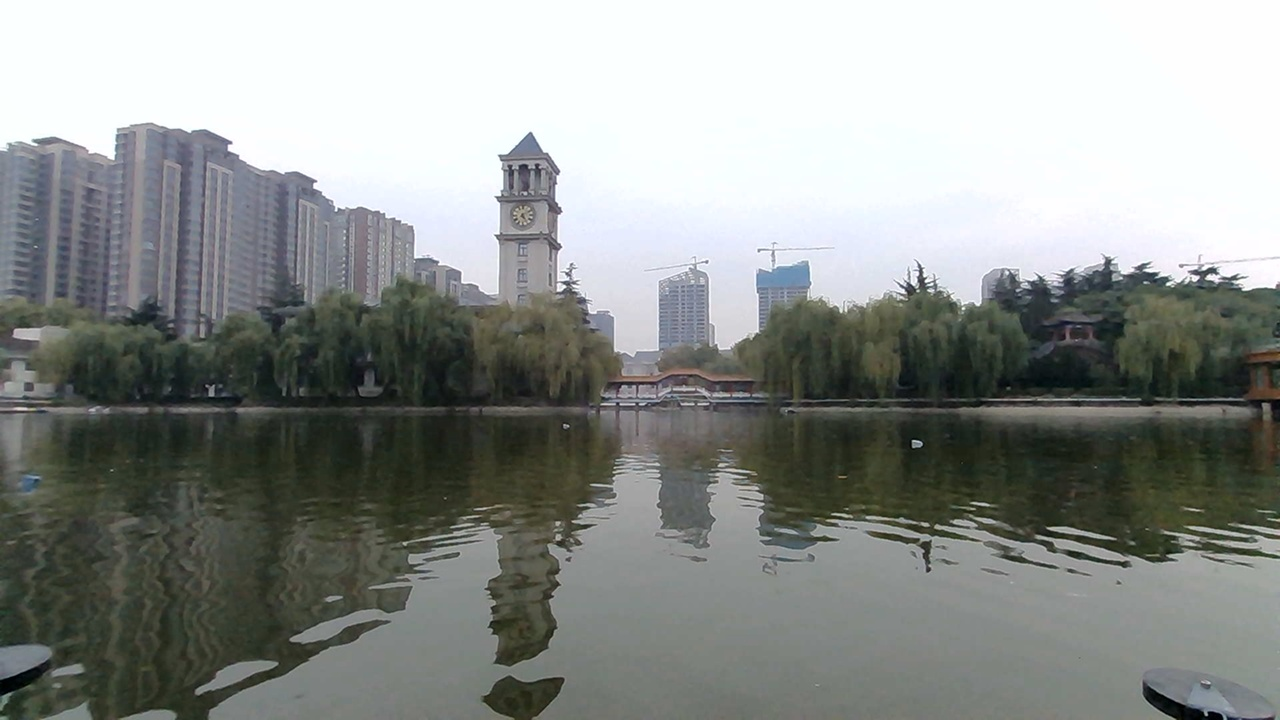bottle: (11, 466, 48, 494), (899, 425, 931, 454)
